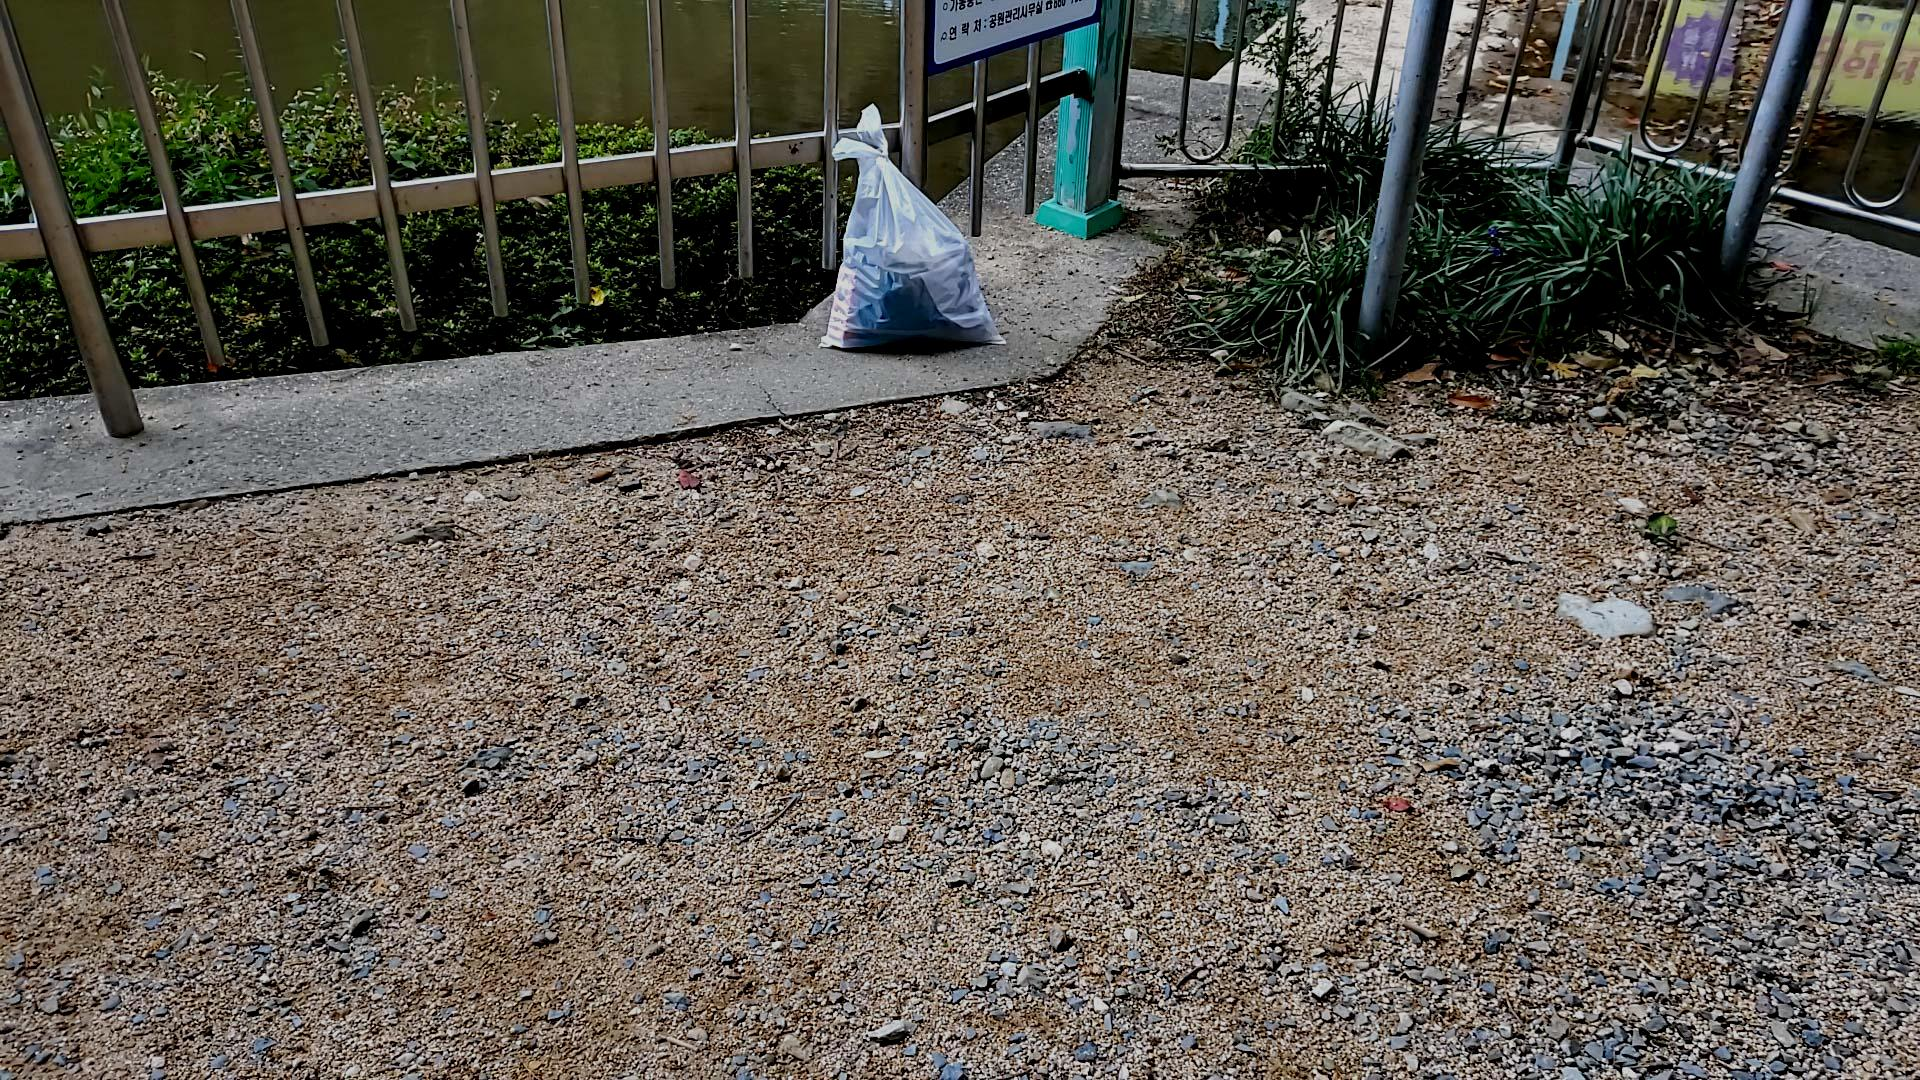white_bag: (800, 99, 1015, 364)
